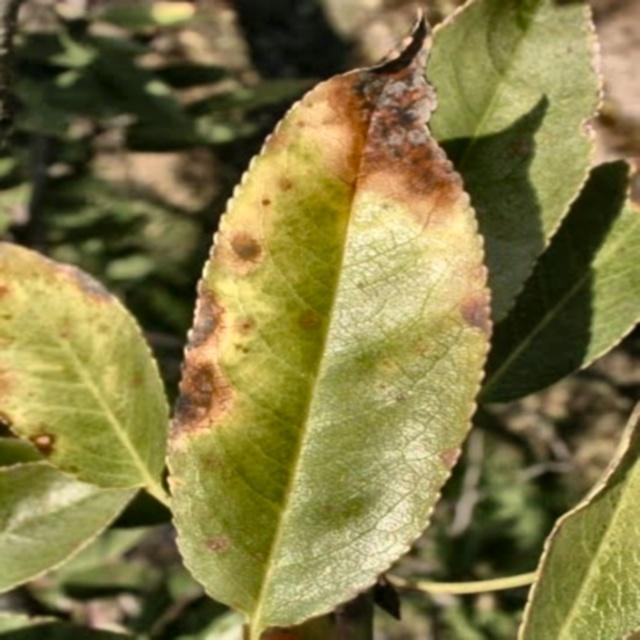shot_hole: (153, 6, 502, 640), (0, 206, 188, 508)
